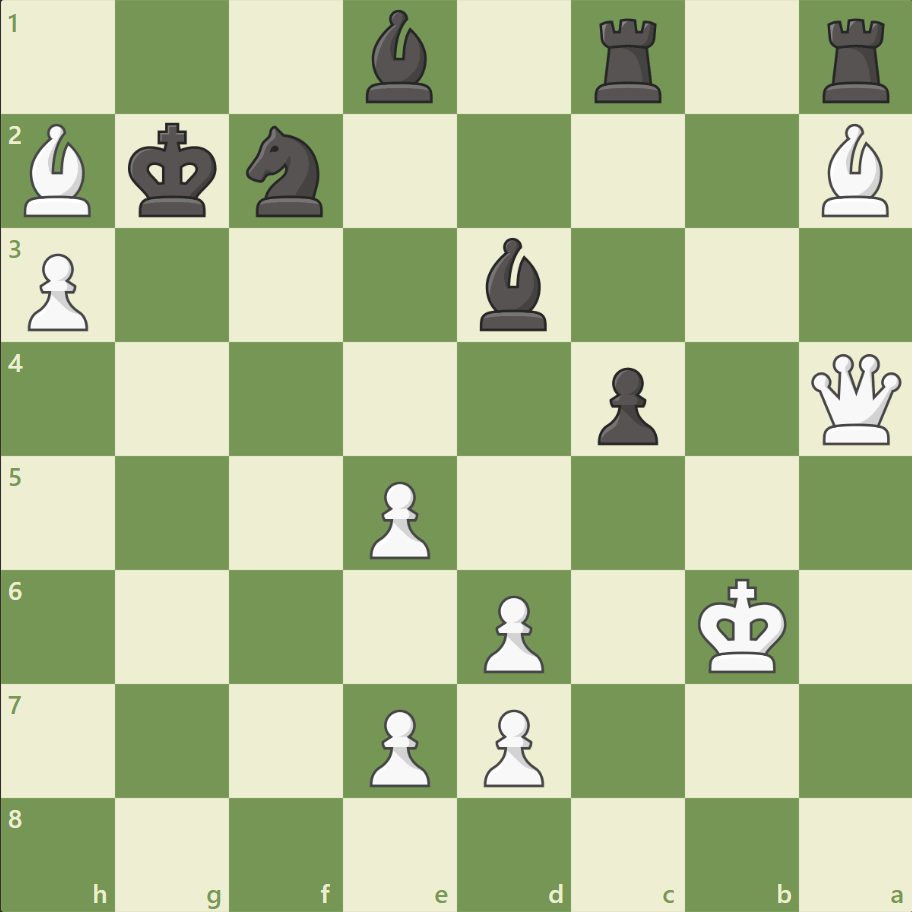B: (812, 120, 896, 222), (17, 120, 101, 222)
K: (692, 571, 792, 679)
P: (474, 700, 549, 791), (474, 586, 549, 677), (20, 246, 95, 337), (361, 700, 435, 791), (361, 473, 435, 564)
Q: (805, 349, 904, 449)
b: (471, 233, 555, 336), (358, 6, 442, 109)
k: (124, 117, 224, 225)
n: (238, 121, 335, 223)
p: (588, 359, 662, 450)
r: (814, 12, 897, 109), (587, 12, 670, 109)
